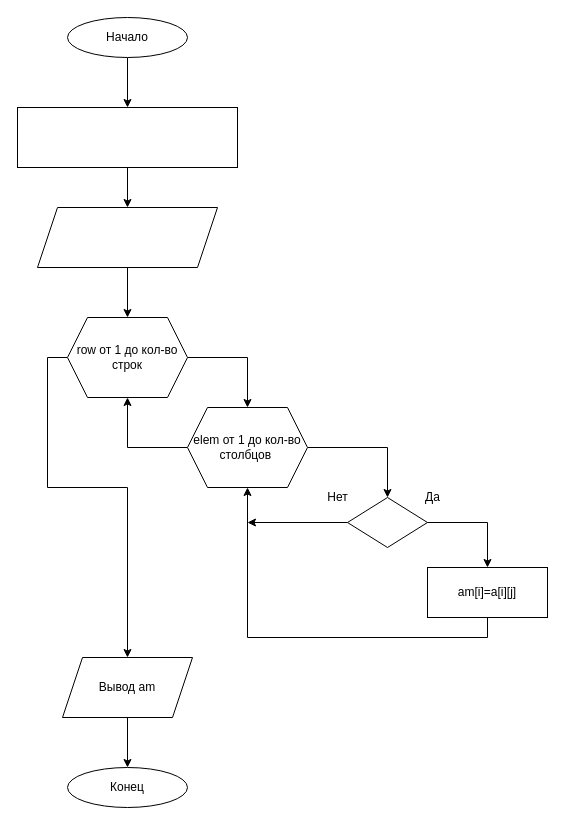
Image size: 565x825. Some labels were removed from this diagram. Here are the shapes that lost their labels. From the top down, the centre of each, then its label:
At pixel 127 137: "Задание массива a = [[1, 2, 3, 4], [5, 6,-9,-3], [7, 8, 9,-5]] am=[0,0,0]".
At pixel 127 237: "Вывод матрицы на экран".
At pixel 387 522: "am[i]>a[i][j]".
